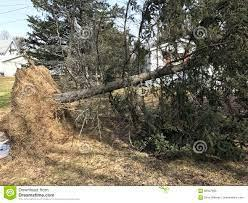Downstairs: (8, 0, 248, 155)
